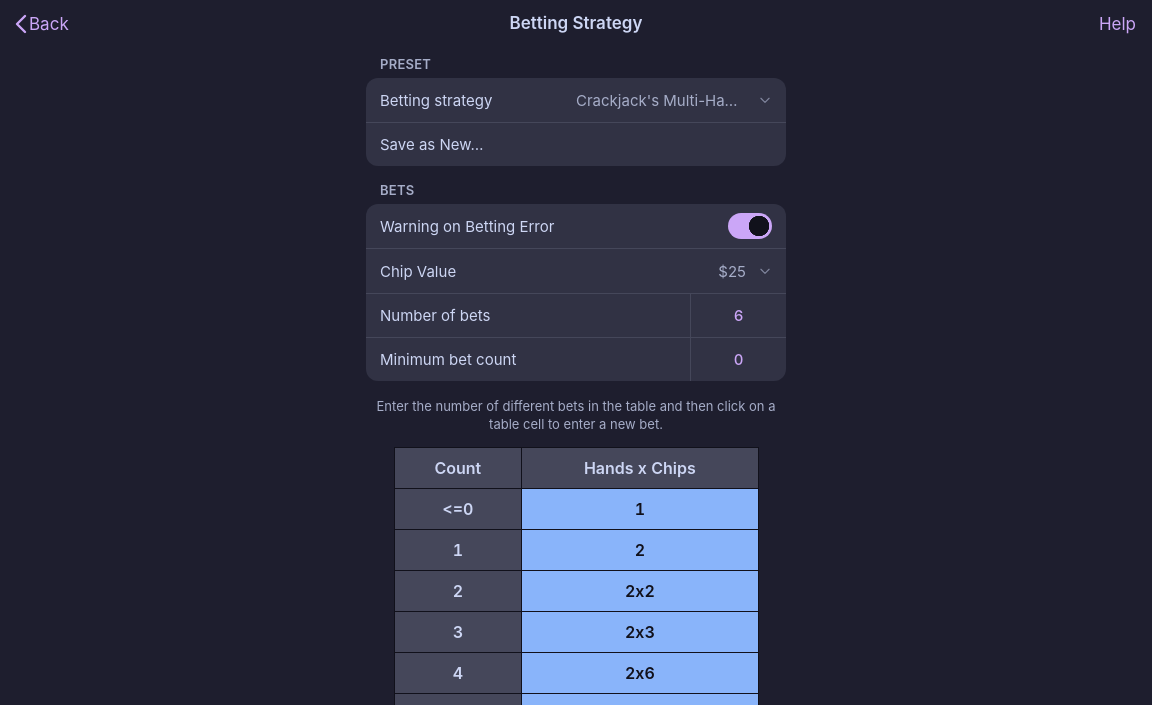
Allowed Bets › shows counts and the minimum count row only when betting errors are flagged
Check: the cell "<=0" is shown, box [394,489,521,529]
Check: the button named "Minimum bet count: 0" is shown, box [690,338,786,381]
Click the switch named "Warning on Betting Error" at (750, 226), box [728,213,772,239]
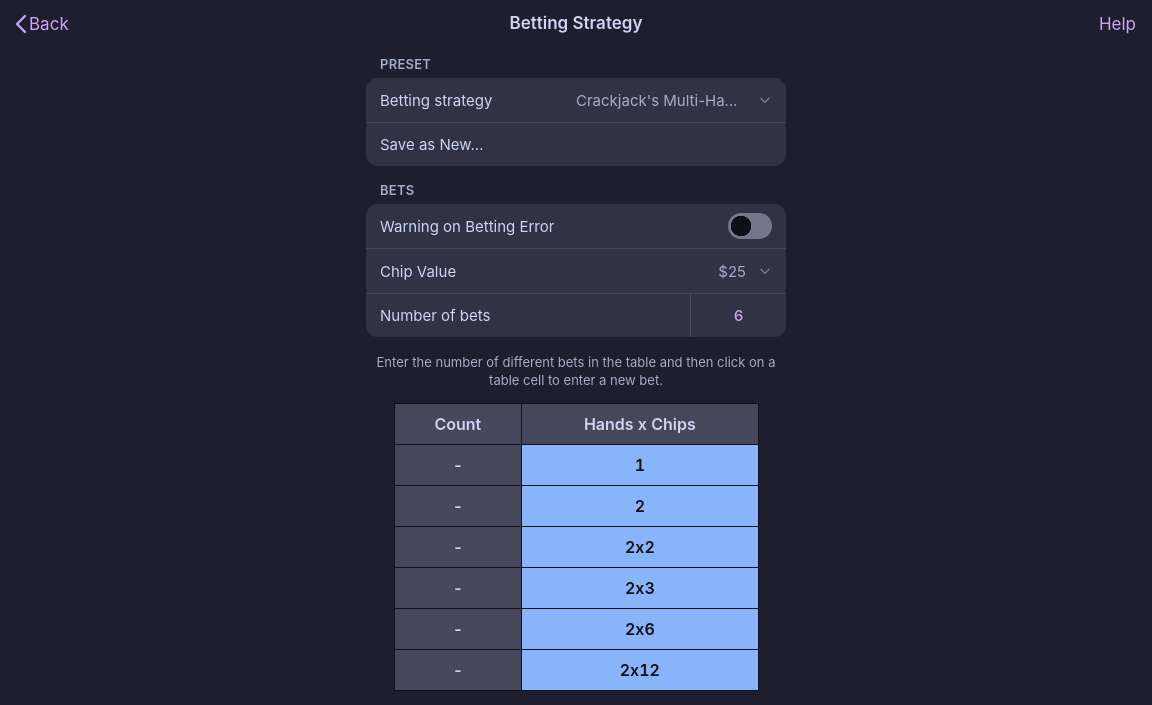
Check: the 1st cell "-" is shown, box [394,445,521,485]
